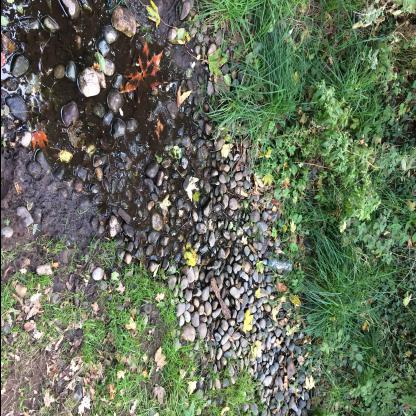plastik: (262, 257, 292, 273)
